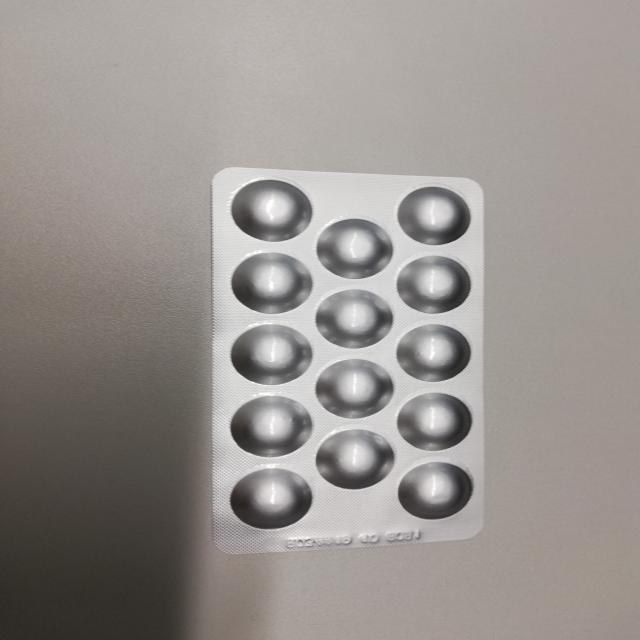Pill: (220, 166, 311, 242), (222, 389, 317, 460), (216, 322, 314, 389), (224, 467, 317, 536), (391, 460, 478, 529), (392, 182, 478, 251), (313, 210, 394, 282), (224, 248, 307, 316), (394, 252, 476, 320), (313, 357, 398, 422), (396, 324, 478, 390), (315, 429, 394, 495), (317, 286, 396, 352), (396, 389, 476, 454)
